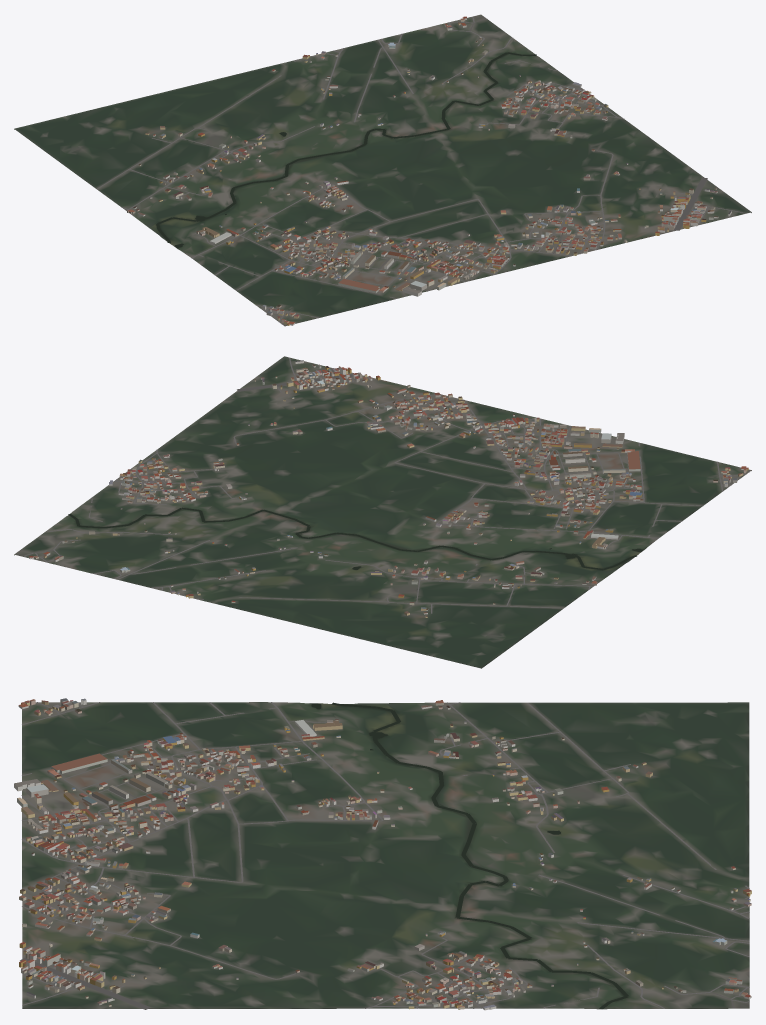
The picture shows the model from 3 angles, top to bottom: view 1: azimuth 30°, elevation 25°; view 2: azimuth 150°, elevation 25°; view 3: azimuth 270°, elevation 25°; orthographic projection. The views are drawn at different scales.
Parts seen in each view (by area): view 1: ground, buildings, roads, water; view 2: ground, buildings, roads, water; view 3: ground, buildings, roads, water.
Part boxes in pixels (box(x1,y1,x2,y2)): ground: box(14, 14, 751, 326); buildings: box(127, 16, 731, 325); roads: box(96, 17, 746, 325); water: box(156, 52, 536, 248); ground: box(14, 356, 751, 668); buildings: box(28, 360, 748, 617); roads: box(20, 357, 749, 613); water: box(68, 507, 644, 570); ground: box(22, 702, 749, 1009); buildings: box(14, 698, 751, 1010); roads: box(20, 702, 749, 1009); water: box(309, 702, 628, 1009).
Size of the model in its own units: 1409 by 21.15 by 1422.
